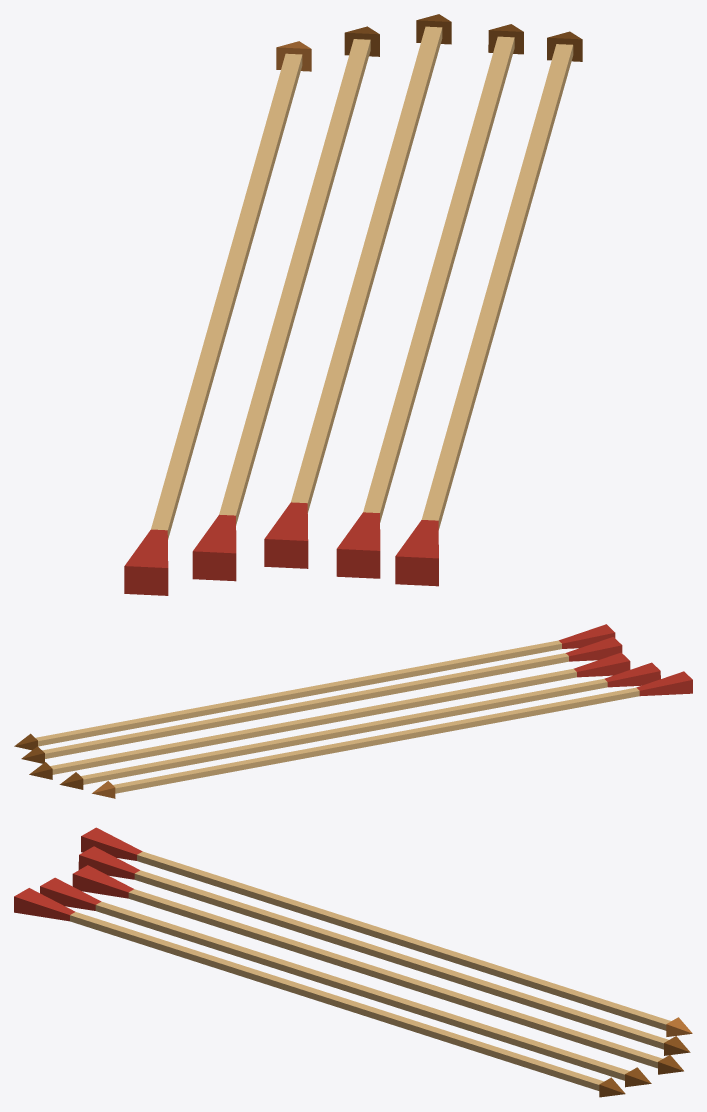
The model's file is copper_arrows.glb.
The picture shows the model from 3 angles, top to bottom: view 1: azimuth 30°, elevation 25°; view 2: azimuth 150°, elevation 25°; view 3: azimuth 270°, elevation 25°; orthographic projection. The views are drawn at different scales.
Parts seen in each view (by area): view 1: copper_arrows; view 2: copper_arrows; view 3: copper_arrows.
Part boxes in pixels (box(x1,y1,x2,y2)): copper_arrows: box(124, 14, 582, 595); copper_arrows: box(14, 624, 692, 798); copper_arrows: box(14, 827, 692, 1097).
Size of the model in its own units: 0.4044 by 0.013 by 0.4543.
